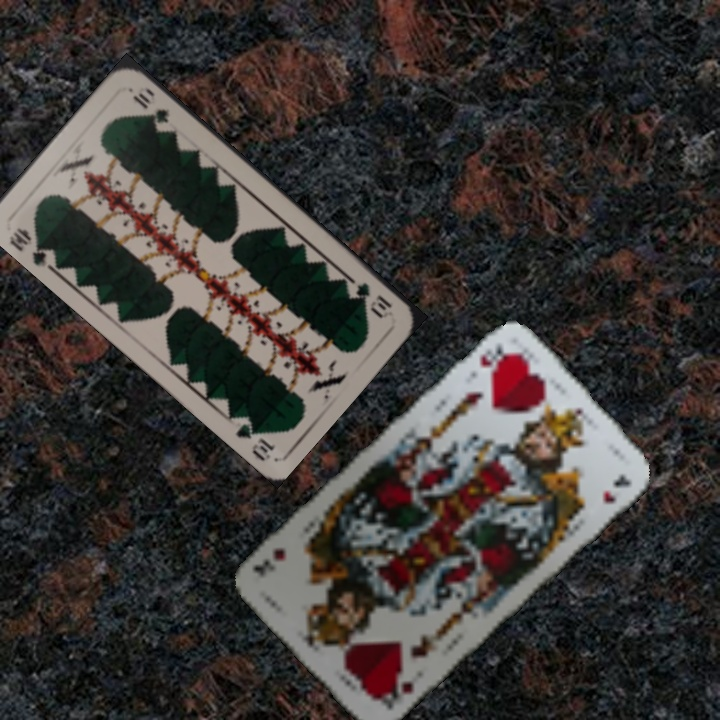G10: (4, 223, 59, 268), (351, 278, 395, 320)
HK: (371, 670, 422, 712), (475, 340, 511, 371)
